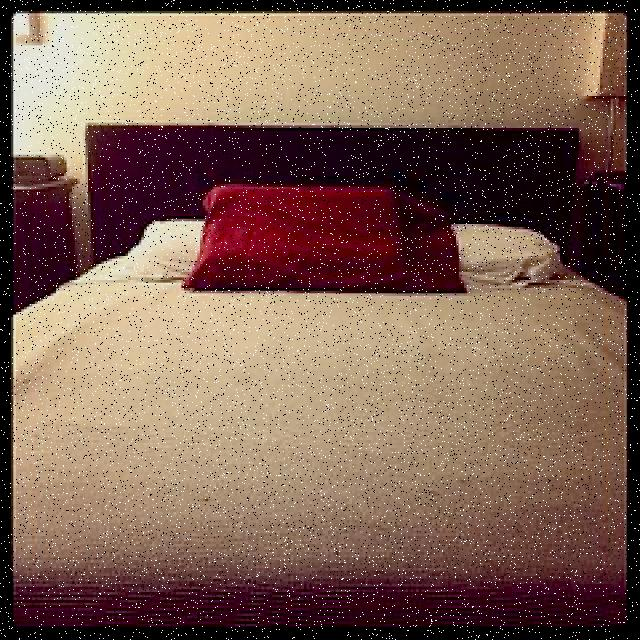bed: (10, 129, 630, 611)
